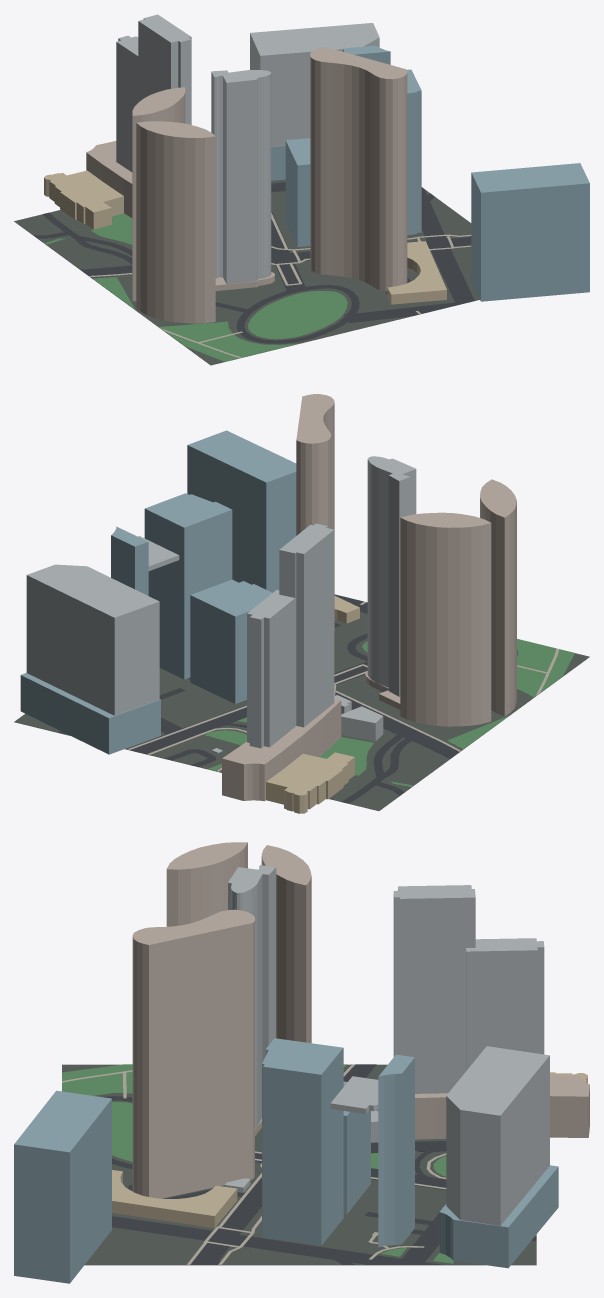
The model's file is tile_002_006.glb.
The picture shows the model from 3 angles, top to bottom: view 1: azimuth 30°, elevation 25°; view 2: azimuth 150°, elevation 25°; view 3: azimuth 270°, elevation 25°; orthographic projection. The views are drawn at different scales.
Parts seen in each view (by area): view 1: tile_002_006_buildings_neutral, tile_002_006_buildings_detailed_m23:lite_37075972, tile_002_006_buildings_office, tile_002_006_buildings_residential, tile_002_006_ground, tile_002_006_roads, tile_002_006_open_spaces, tile_002_006_buildings_retail, tile_002_006_paths; view 2: tile_002_006_buildings_neutral, tile_002_006_buildings_office, tile_002_006_buildings_residential, tile_002_006_ground, tile_002_006_roads, tile_002_006_buildings_detailed_m23:lite_37075972, tile_002_006_buildings_retail, tile_002_006_open_spaces, tile_002_006_paths; view 3: tile_002_006_buildings_office, tile_002_006_buildings_neutral, tile_002_006_buildings_detailed_m23:lite_37075972, tile_002_006_buildings_residential, tile_002_006_ground, tile_002_006_roads, tile_002_006_buildings_retail, tile_002_006_open_spaces, tile_002_006_paths.
Boxes of the visible parts, x1,y1,x2,y2 form: tile_002_006_buildings_neutral: (116, 14, 379, 284); tile_002_006_buildings_detailed_m23:lite_37075972: (310, 47, 407, 291); tile_002_006_buildings_office: (271, 45, 589, 301); tile_002_006_buildings_residential: (86, 87, 274, 323); tile_002_006_ground: (14, 179, 479, 365); tile_002_006_roads: (33, 182, 474, 343); tile_002_006_open_spaces: (44, 213, 347, 361); tile_002_006_buildings_retail: (44, 170, 446, 304); tile_002_006_paths: (89, 212, 471, 357); tile_002_006_buildings_neutral: (26, 456, 416, 753); tile_002_006_buildings_office: (20, 430, 296, 754); tile_002_006_buildings_residential: (222, 479, 516, 801); tile_002_006_ground: (14, 611, 589, 810); tile_002_006_roads: (57, 594, 460, 803); tile_002_006_buildings_detailed_m23:lite_37075972: (296, 394, 334, 630); tile_002_006_buildings_retail: (266, 596, 359, 813); tile_002_006_open_spaces: (204, 639, 574, 786); tile_002_006_paths: (127, 601, 559, 771); tile_002_006_buildings_office: (14, 1038, 558, 1283); tile_002_006_buildings_neutral: (225, 865, 549, 1225); tile_002_006_buildings_detailed_m23:lite_37075972: (132, 909, 254, 1198); tile_002_006_buildings_residential: (166, 842, 589, 1139); tile_002_006_ground: (62, 1064, 536, 1265); tile_002_006_roads: (102, 1064, 536, 1264); tile_002_006_buildings_retail: (112, 1072, 587, 1227); tile_002_006_open_spaces: (62, 1064, 453, 1263); tile_002_006_paths: (62, 1064, 446, 1264).
Size of the model in its own units: 273 by 149 by 303.
